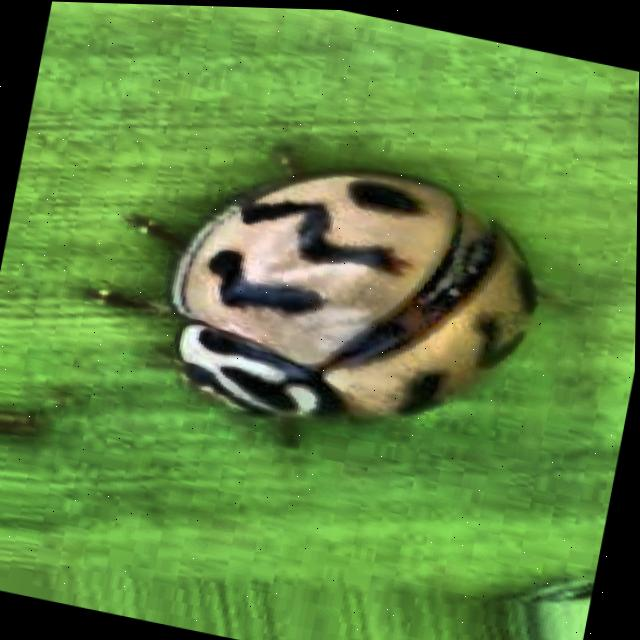Asian-Lady-beetle: (52, 66, 639, 608)
